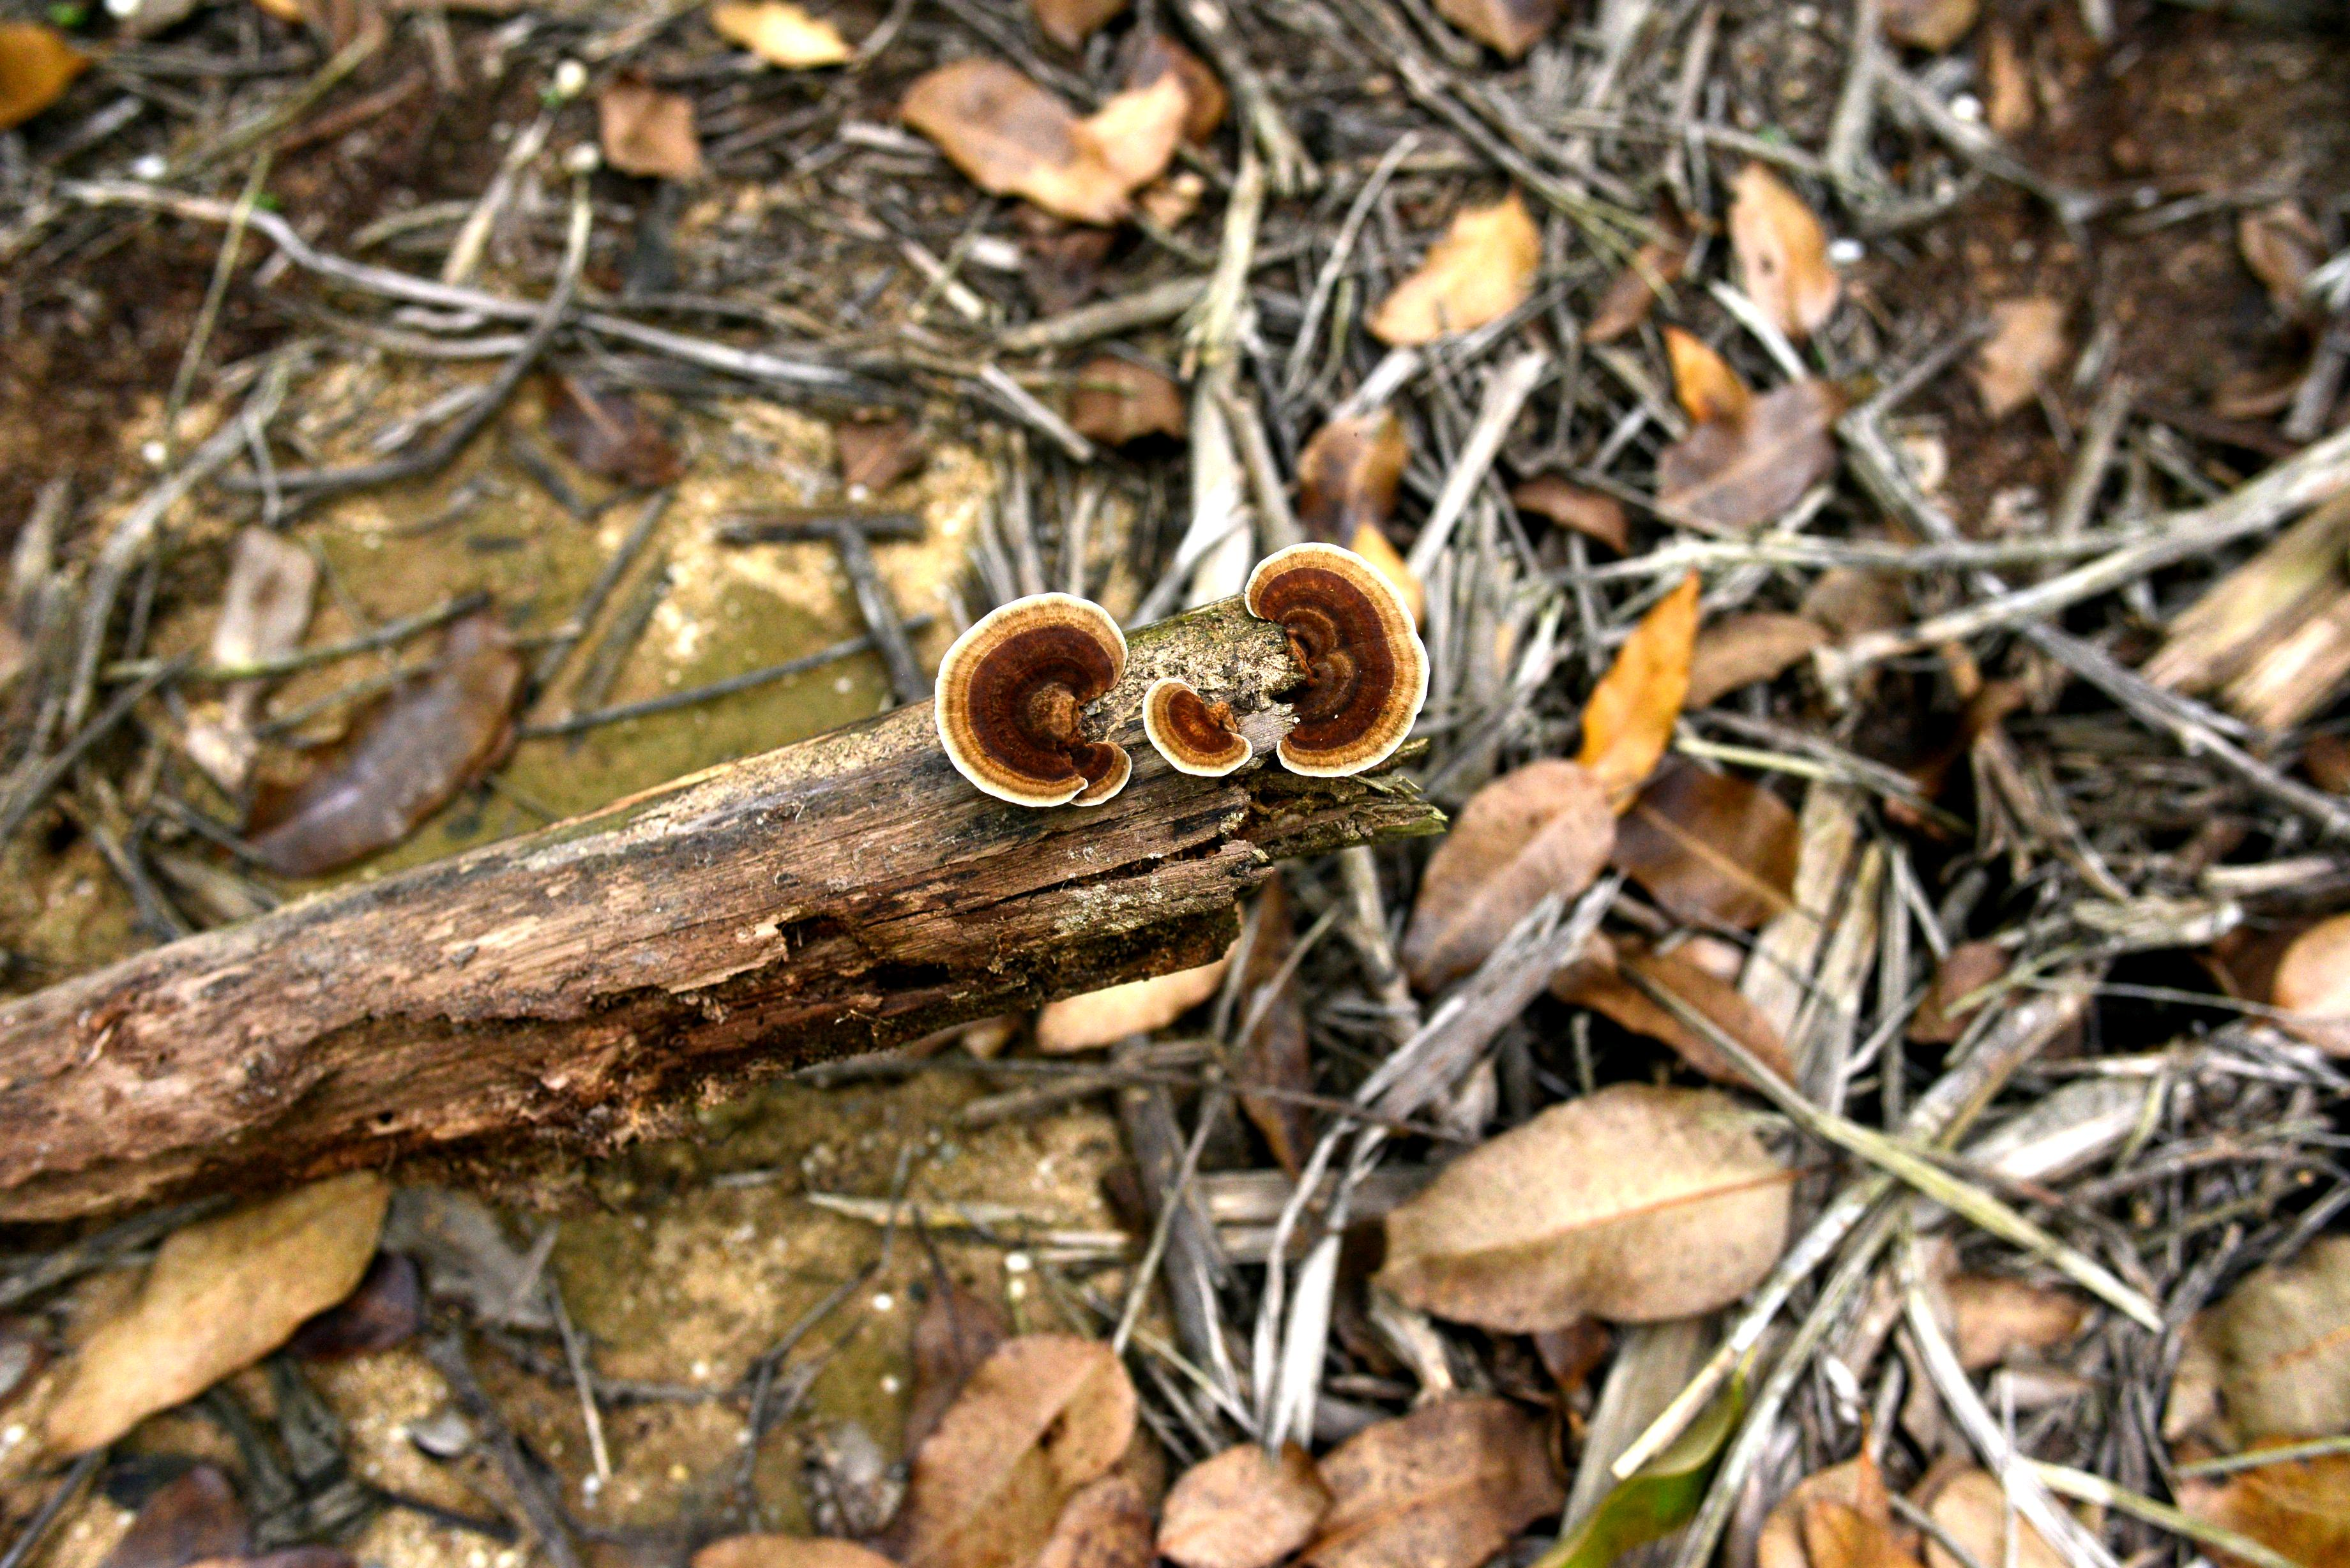Ganoderma - Fruit Body: (1246, 542, 1430, 779), (948, 595, 1130, 807), (1150, 674, 1246, 784)
